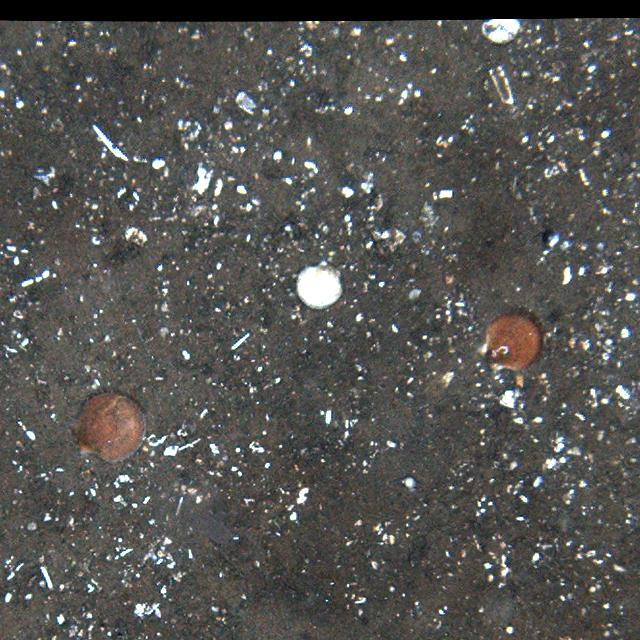scallop: (74, 389, 148, 464), (482, 308, 546, 368)
